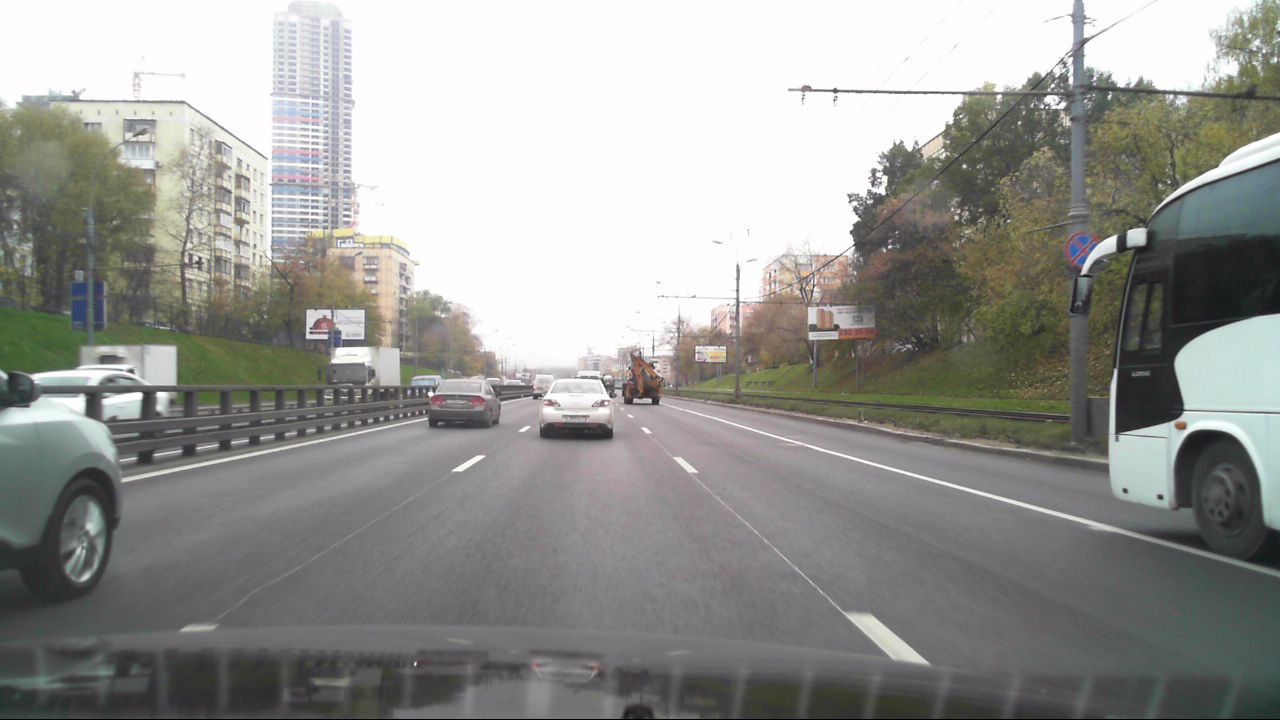No Parking: (1064, 231, 1099, 266)
